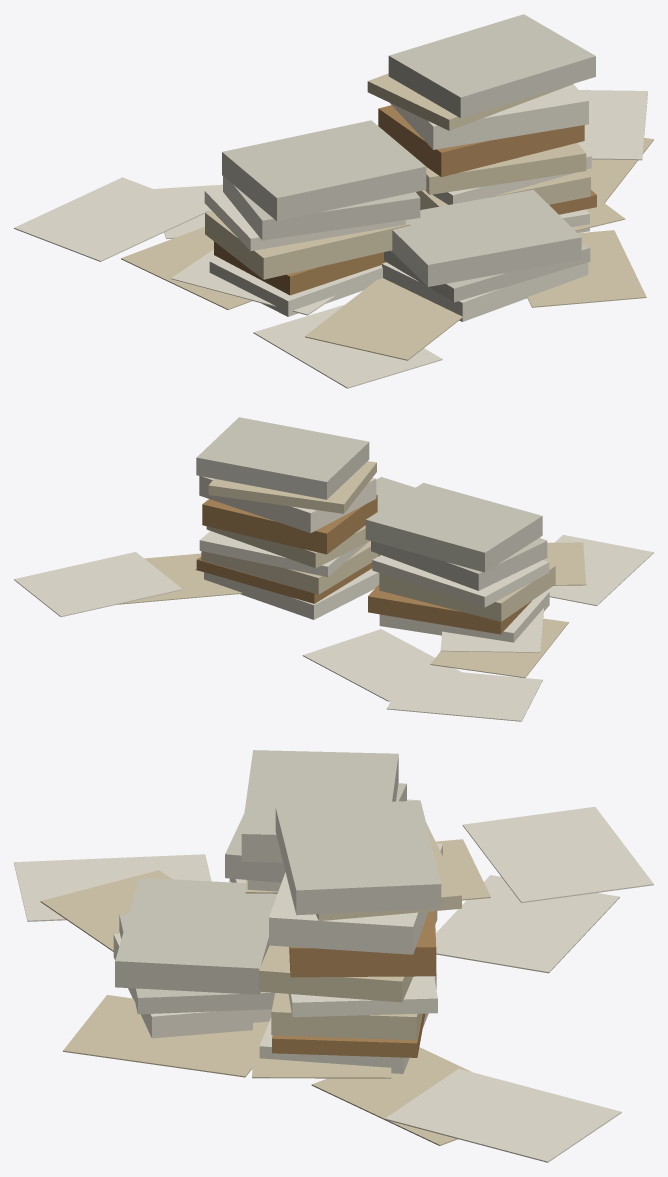
Rendered from paper_pile.glb.
3 views of the same model, one above another, from view 1: azimuth 30°, elevation 25°; view 2: azimuth 150°, elevation 25°; view 3: azimuth 270°, elevation 25° (orthographic). The views are drawn at different scales.
Parts seen in each view (by area): view 1: Papers; view 2: Papers; view 3: Papers.
Part boxes in pixels (bbox=[...]): Papers: bbox=[14, 14, 653, 388]; Papers: bbox=[14, 417, 653, 721]; Papers: bbox=[14, 750, 653, 1162].
Bounding box in the file's own units: 1.27 × 0.3142 × 0.9654.
